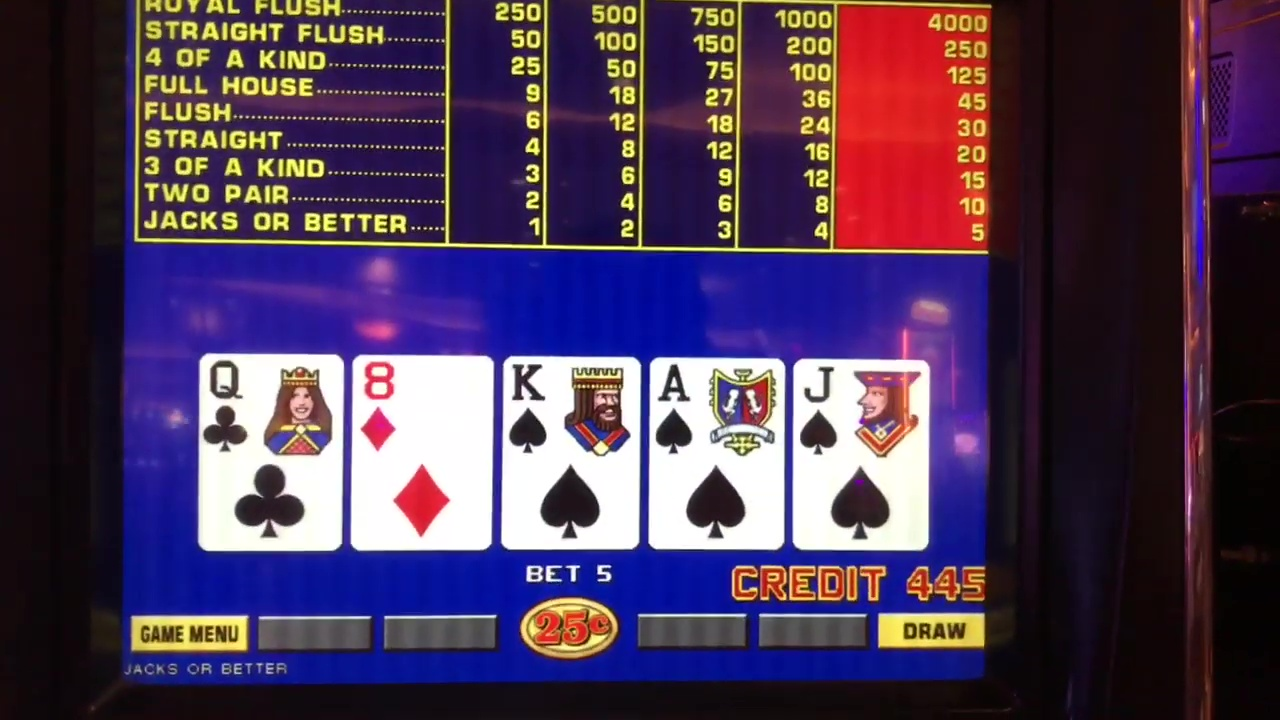CQ: (204, 356, 335, 553)
D8: (358, 358, 488, 550)
SA: (651, 358, 782, 549)
SJ: (796, 363, 925, 549)
SK: (506, 360, 637, 548)
